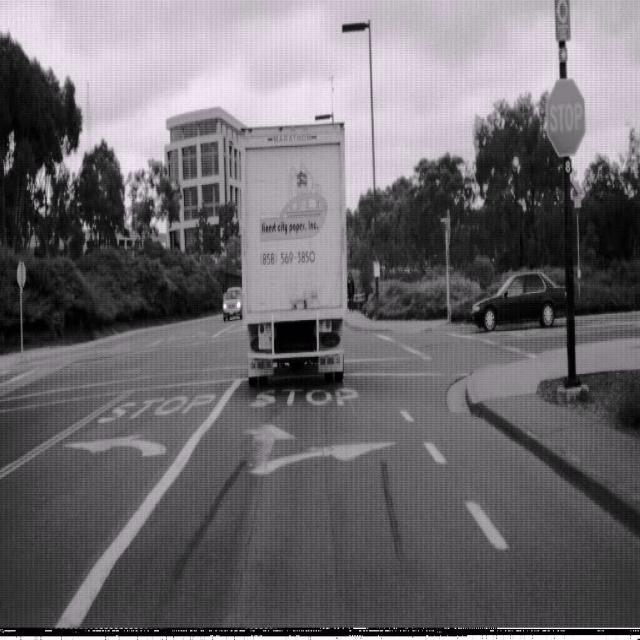stop: (546, 76, 586, 157)
